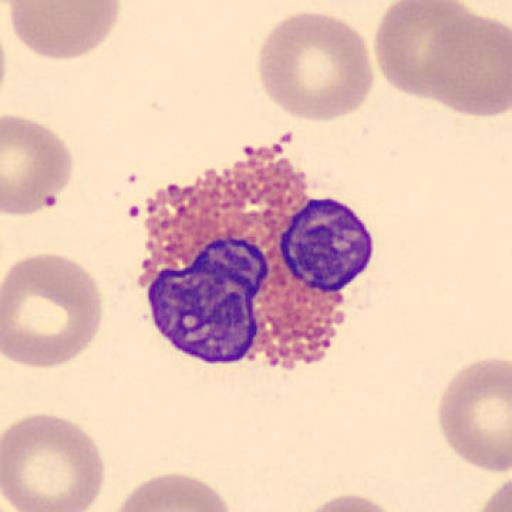RBC: (371, 0, 504, 111), (256, 10, 375, 124), (1, 252, 104, 370), (2, 413, 106, 511), (421, 9, 512, 118), (373, 0, 469, 99), (436, 355, 512, 473), (1, 113, 74, 217), (7, 1, 122, 61), (110, 469, 233, 512), (294, 492, 406, 512), (452, 0, 512, 28), (475, 475, 512, 512)
WBC: (140, 144, 378, 367)
